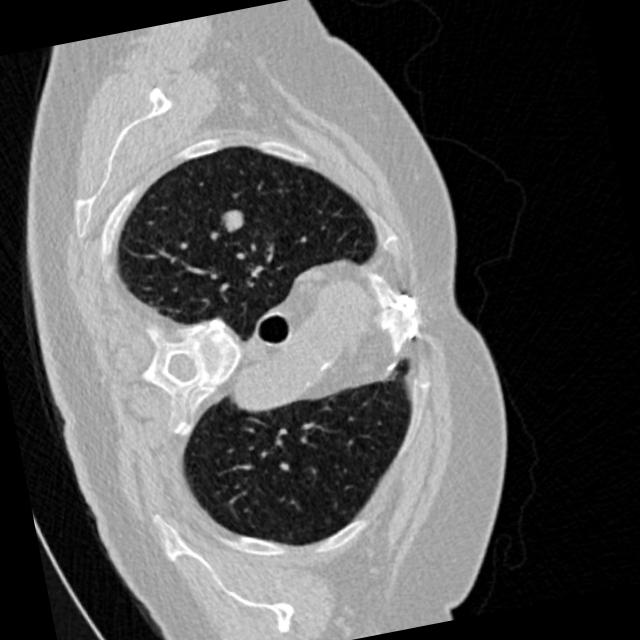nodule: (204, 188, 262, 247)
